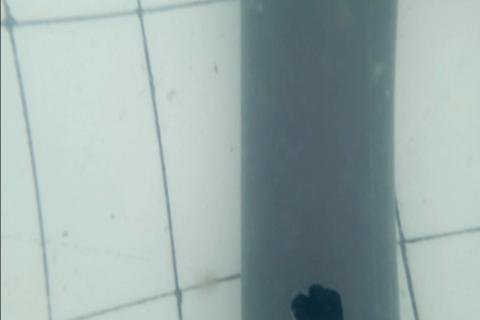kebocoran: (292, 282, 345, 320)
